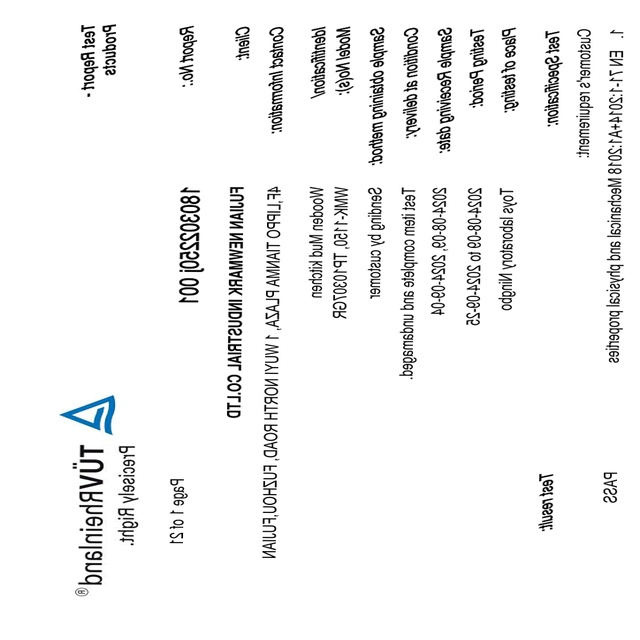tuv_rheinland: (61, 392, 115, 597)
